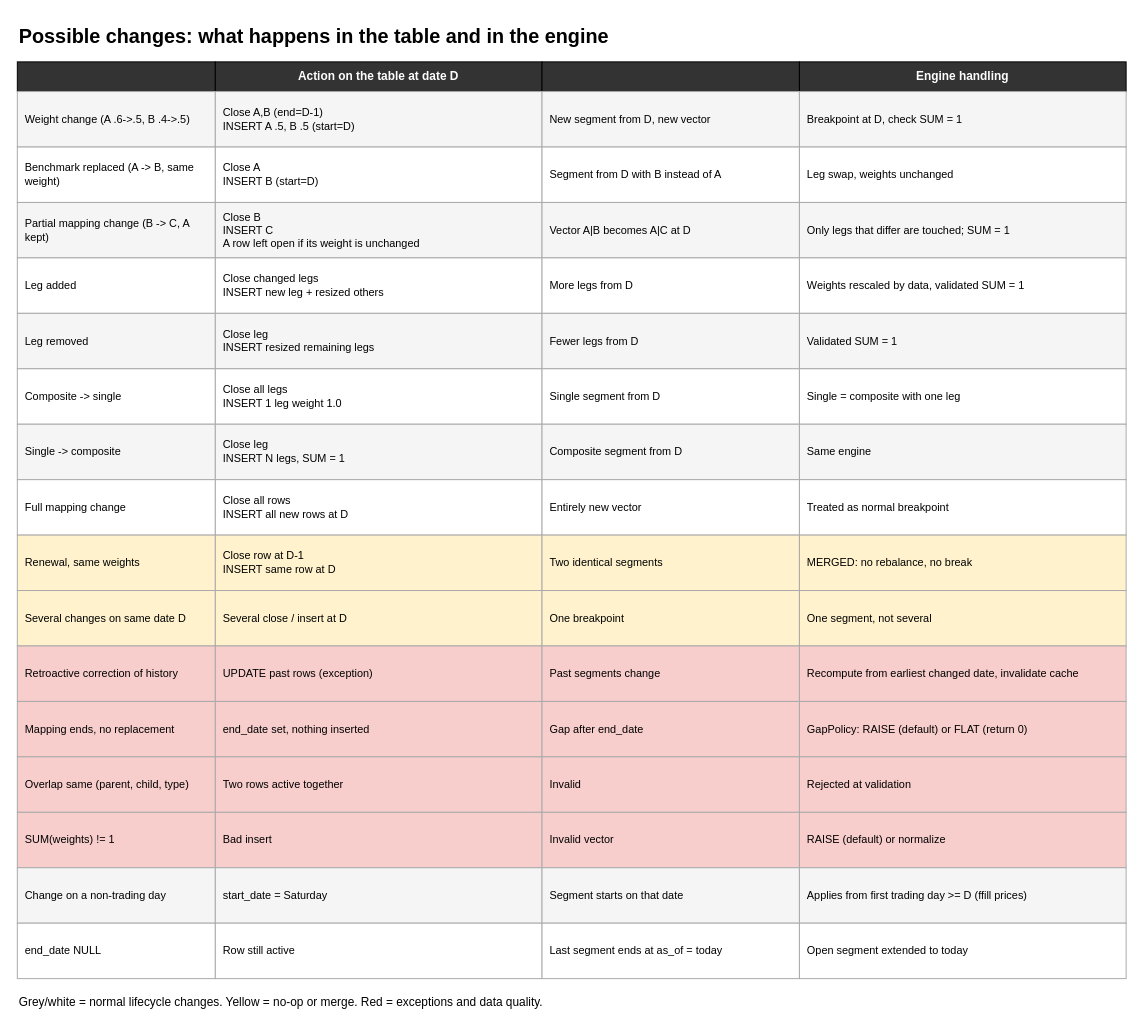
This 1143x1030 diagram has some shape labels left out. The centre of each missing label's shape, as x and y in pixels:
Resulting segments: (x=670, y=76)
Scenario: (x=115, y=76)
